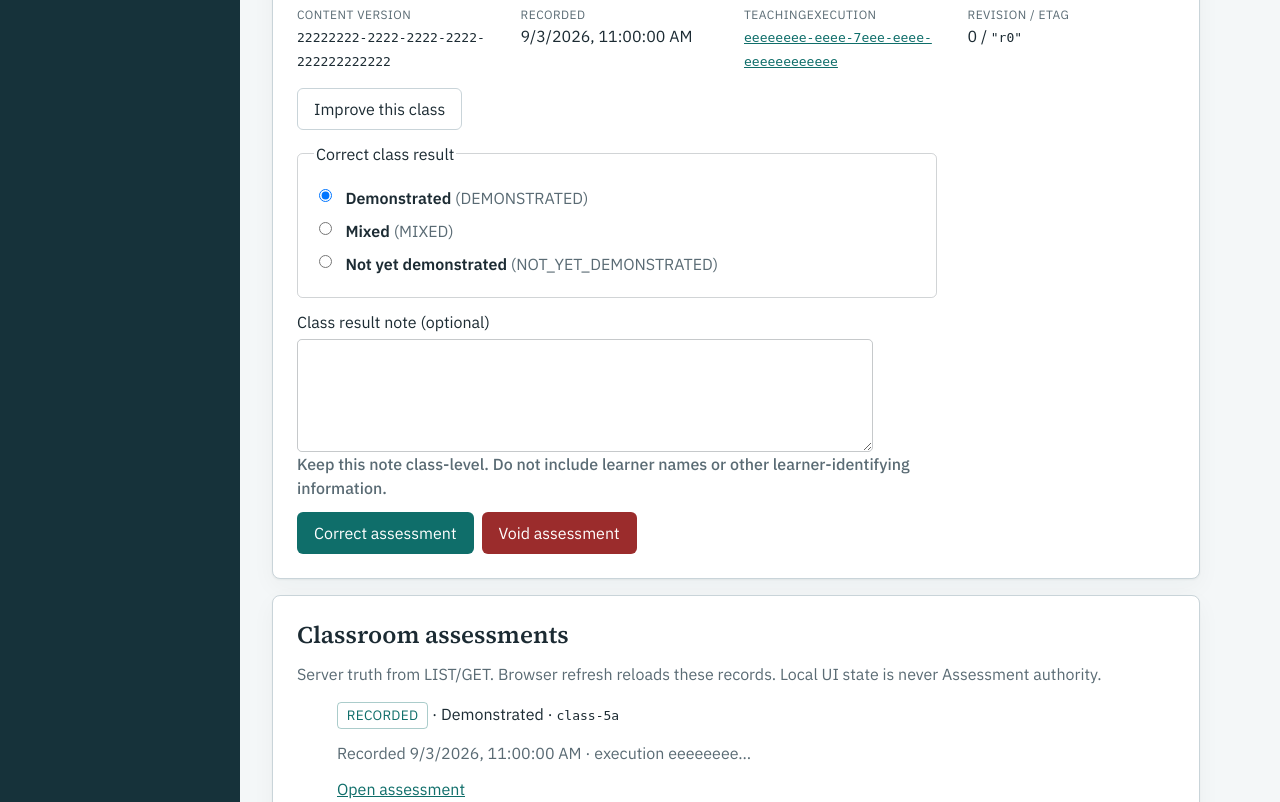
Test: TOS-DEV08-I03 Assess page › VOID stale preflight aborts without POST and resets confirmation
(page scrolled)
Step 1. Click the button "Void assessment" → (559,533), box [482, 512, 636, 554]
(page scrolled)
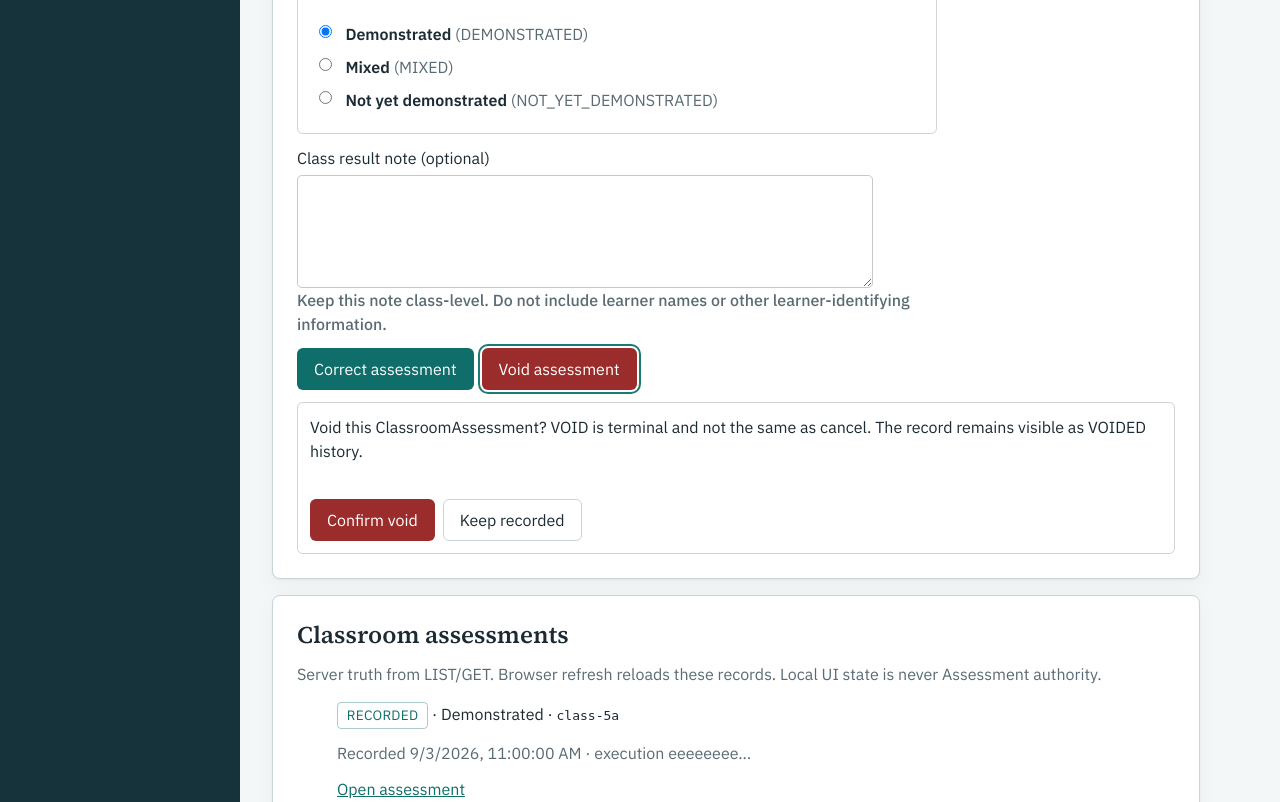
Now the element named "Confirm void ClassroomAssessment" is shown, box [297, 402, 1175, 554]
Step 2. Click the button "Confirm void" → (372,520), box [310, 499, 435, 541]
(page scrolled)
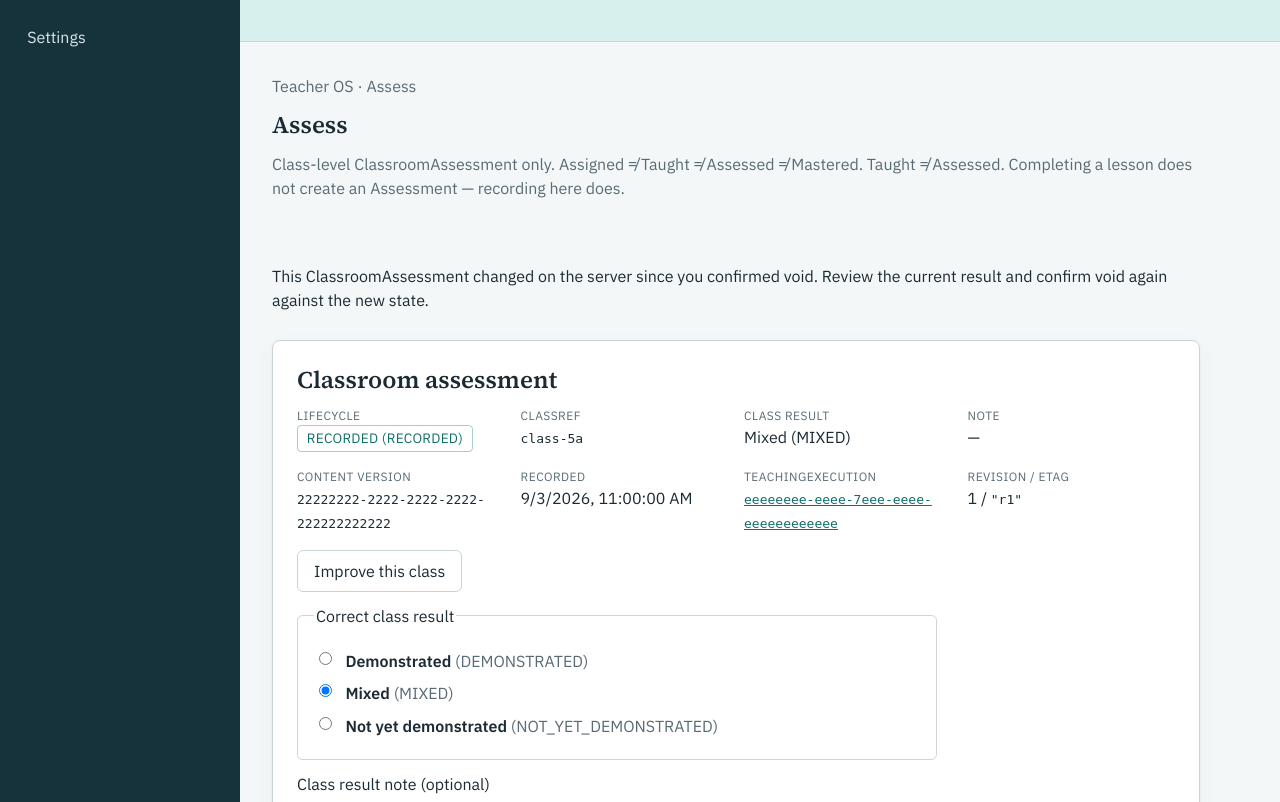
Now the text "changed on the server since you confirmed void" is shown, box [272, 266, 1167, 310]
Now the text "Mixed (MIXED)" is shown, box [744, 427, 851, 447]
